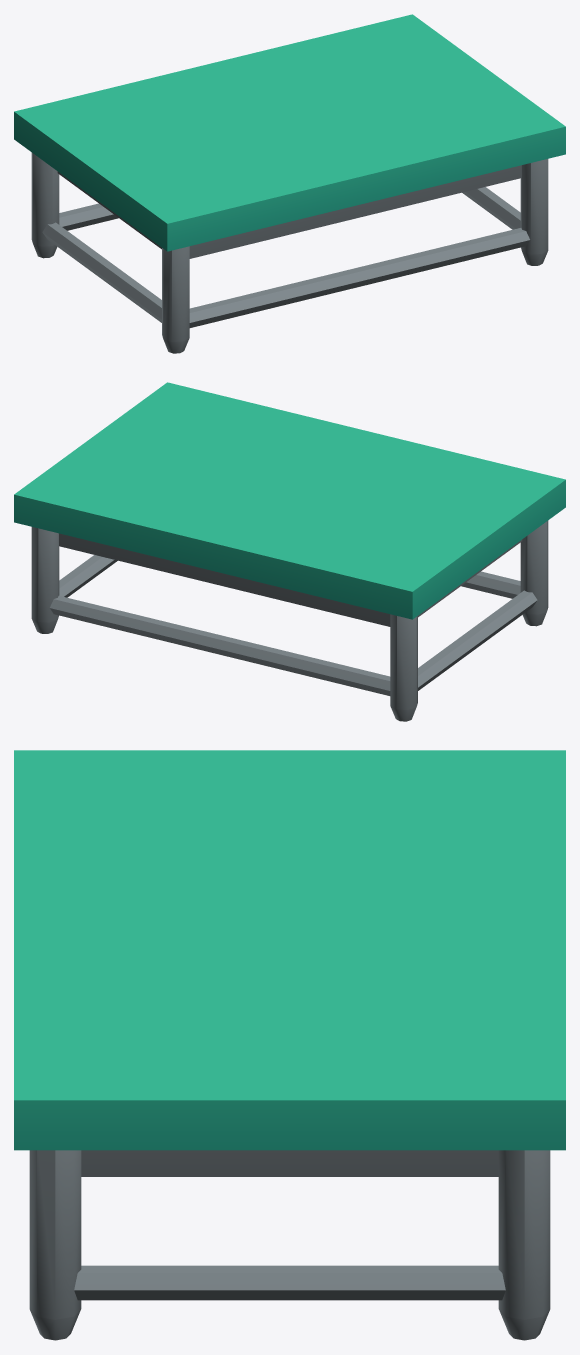
File: Kitchen Table-BAT1fix4uD.glb
3 renders of one model, top to bottom at view 1: azimuth 30°, elevation 25°; view 2: azimuth 150°, elevation 25°; view 3: azimuth 270°, elevation 25°, orthographic. The views are drawn at different scales.
Parts seen in each view (by area): view 1: kitchentable_B_large; view 2: kitchentable_B_large; view 3: kitchentable_B_large.
Boxes of the visible parts, x1,y1,x2,y2 form: kitchentable_B_large: (14, 14, 565, 353); kitchentable_B_large: (14, 382, 565, 721); kitchentable_B_large: (14, 750, 565, 1340).
Size of the model in its own units: 3 by 1 by 2.
Materials: 1 (1 with a texture image).
